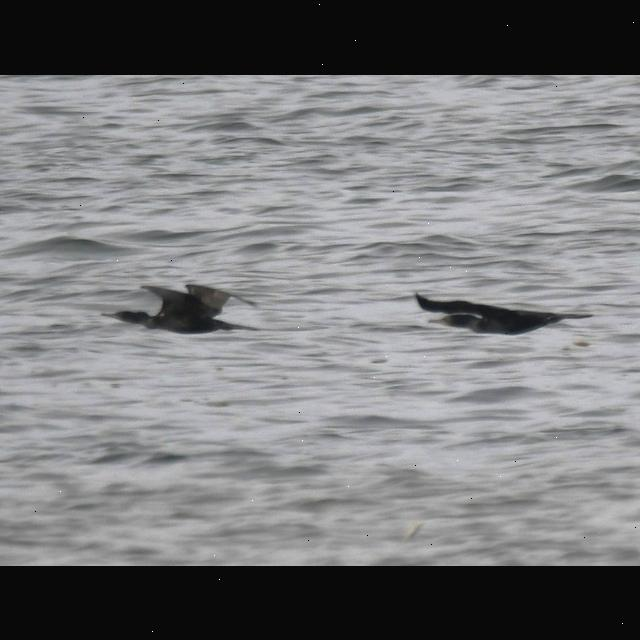cormorant: (404, 288, 596, 349), (98, 280, 266, 346)
